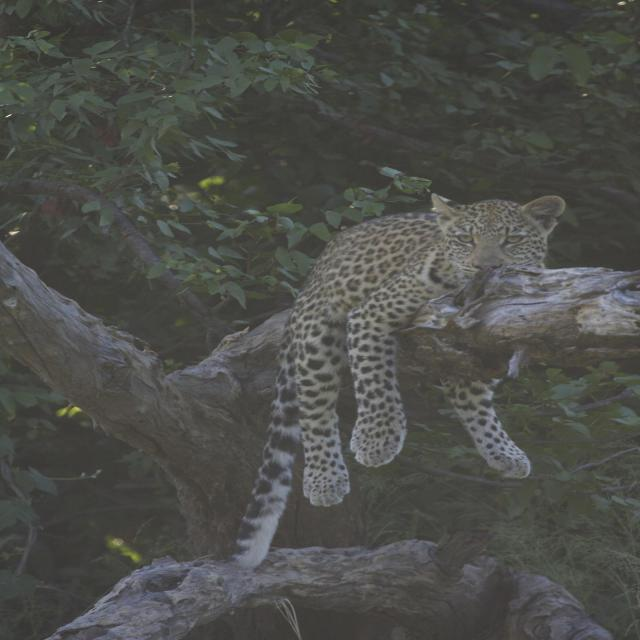Leopard: (228, 205, 606, 552)
